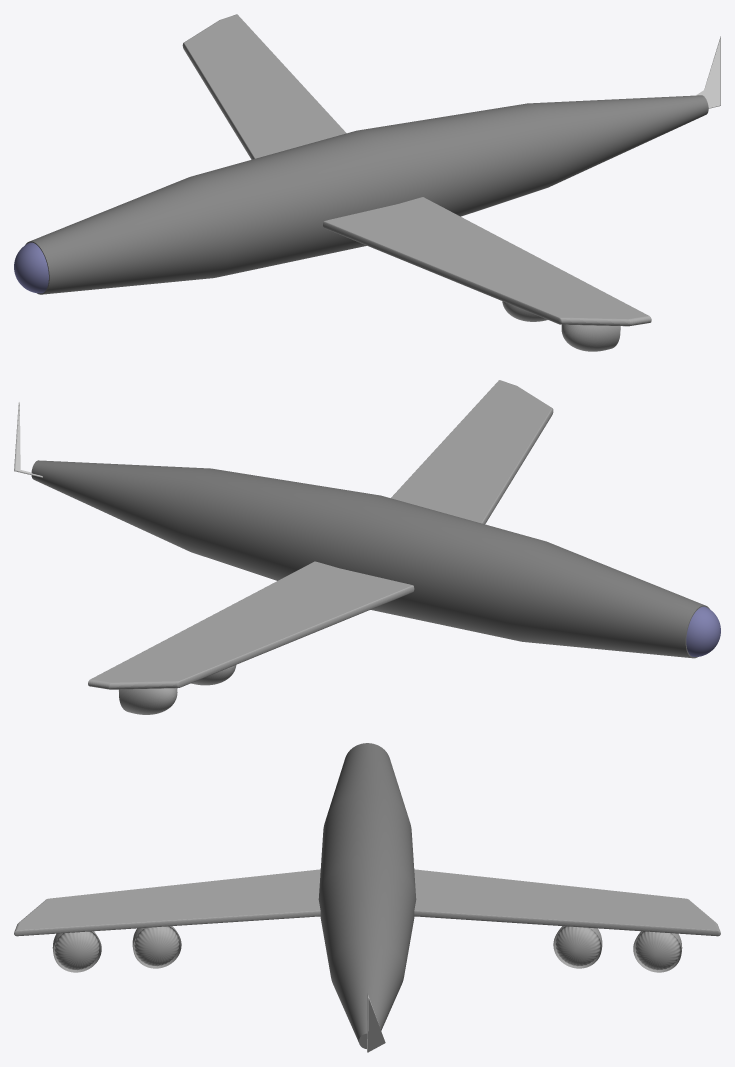
The picture shows the model from 3 angles, top to bottom: view 1: azimuth 30°, elevation 25°; view 2: azimuth 150°, elevation 25°; view 3: azimuth 270°, elevation 25°; orthographic projection. The views are drawn at different scales.
Visible parts, largest first — view 1: Aeroplane, Wing.001, Sphere, Plane; view 2: Aeroplane, Wing.001, Sphere; view 3: Wing.001, Aeroplane, Plane.
Part boxes in pixels (bbox=[...]): Aeroplane: bbox=[25, 95, 708, 294]; Wing.001: bbox=[182, 14, 651, 351]; Sphere: bbox=[14, 242, 48, 293]; Plane: bbox=[695, 36, 720, 108]; Aeroplane: bbox=[31, 460, 709, 658]; Wing.001: bbox=[88, 380, 553, 714]; Sphere: bbox=[686, 606, 720, 656]; Wing.001: bbox=[14, 869, 720, 972]; Aeroplane: bbox=[318, 743, 416, 1048]; Plane: bbox=[367, 994, 385, 1052].
Bounding box in the file's own units: 422 × 67.38 × 431.
